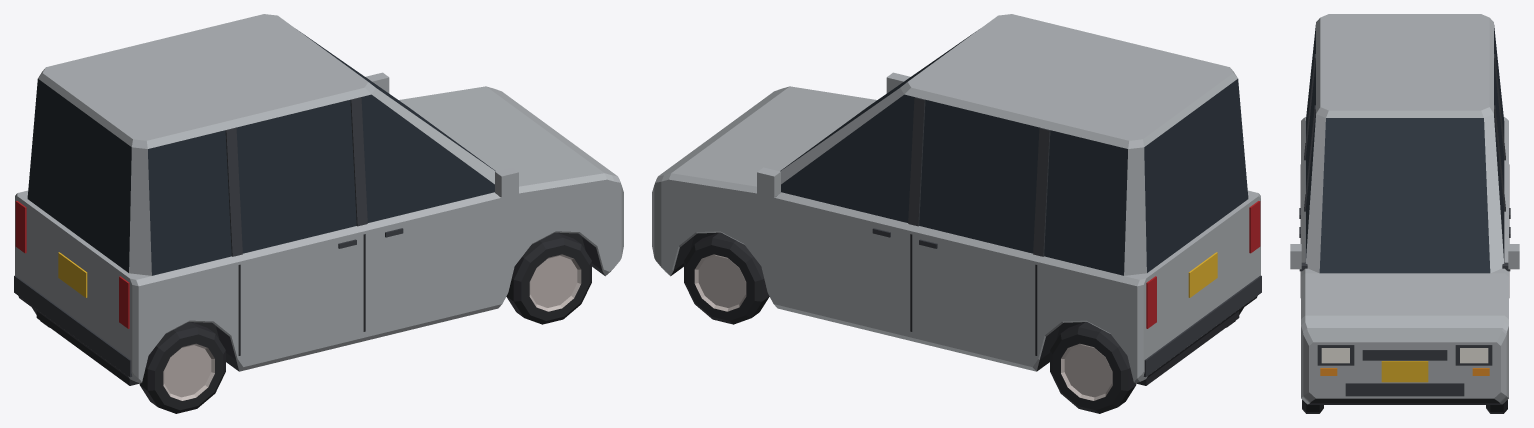
Rendered from SM_Street_KeiCar_Wagon_Silver_01.gltf.
The picture shows the model from 3 angles, left to right: view 1: azimuth 30°, elevation 25°; view 2: azimuth 150°, elevation 25°; view 3: azimuth 270°, elevation 25°; orthographic projection. The views are drawn at different scales.
Visible parts, largest first — view 1: SM_Street_KeiCar_Wagon_Silver_01; view 2: SM_Street_KeiCar_Wagon_Silver_01; view 3: SM_Street_KeiCar_Wagon_Silver_01.
Part boxes in pixels (box(x1,y1,x2,y2)): SM_Street_KeiCar_Wagon_Silver_01: box(14, 14, 623, 413); SM_Street_KeiCar_Wagon_Silver_01: box(652, 14, 1261, 413); SM_Street_KeiCar_Wagon_Silver_01: box(1290, 14, 1519, 413).
Size of the model in its own units: 3.42 by 1.79 by 1.62.
Materials: 1 (1 with a texture image).
